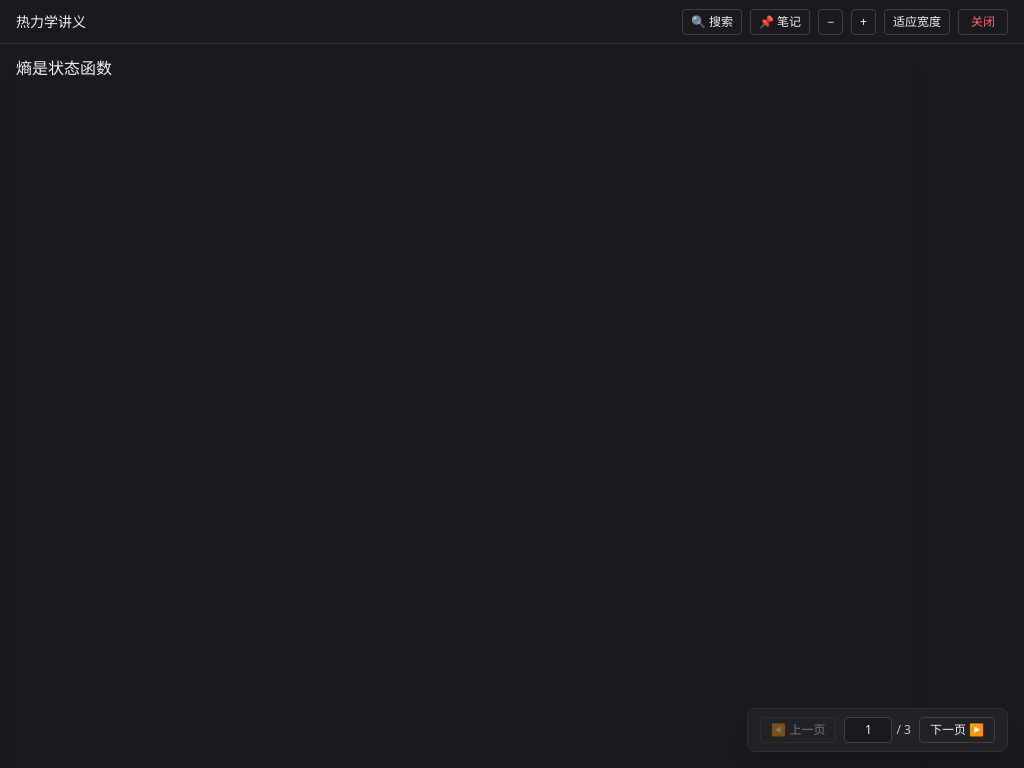
Test: PdfReaderView — search › closes the search popover with Escape
Step 1. Click the button titled "在 PDF 中搜索 (Ctrl+F)" → point(712, 22), box [682,9,742,35]
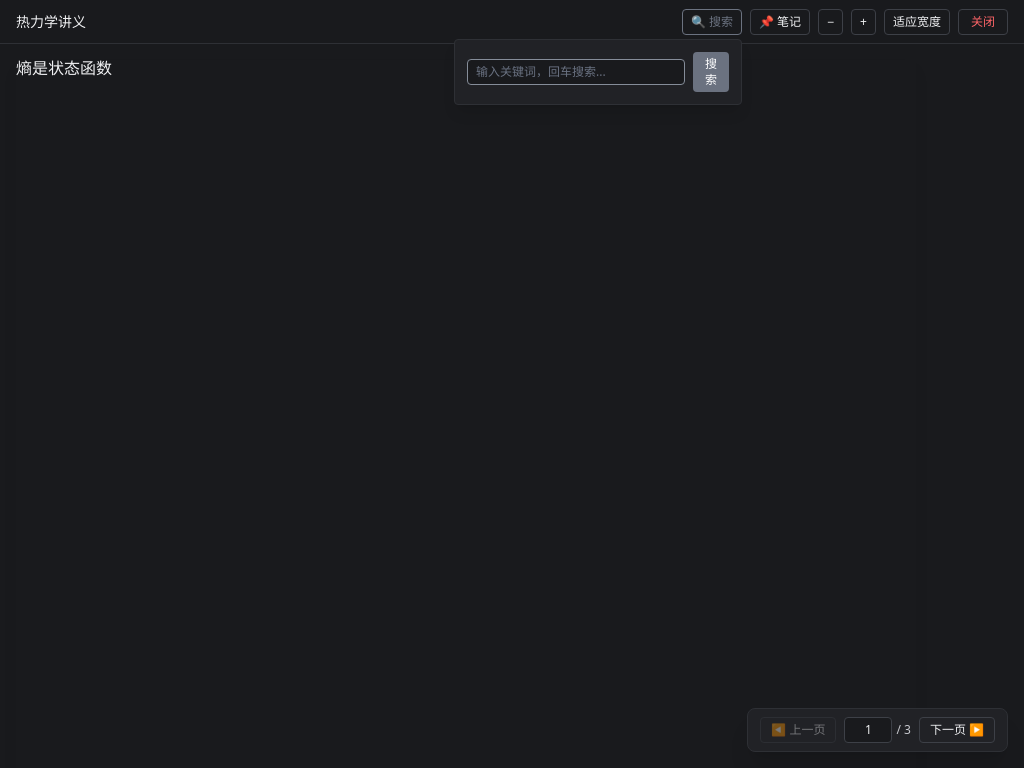
Expected: the field with placeholder "输入关键词，回车搜索..." is shown, [467,59,685,85]
Step 2. Press Escape
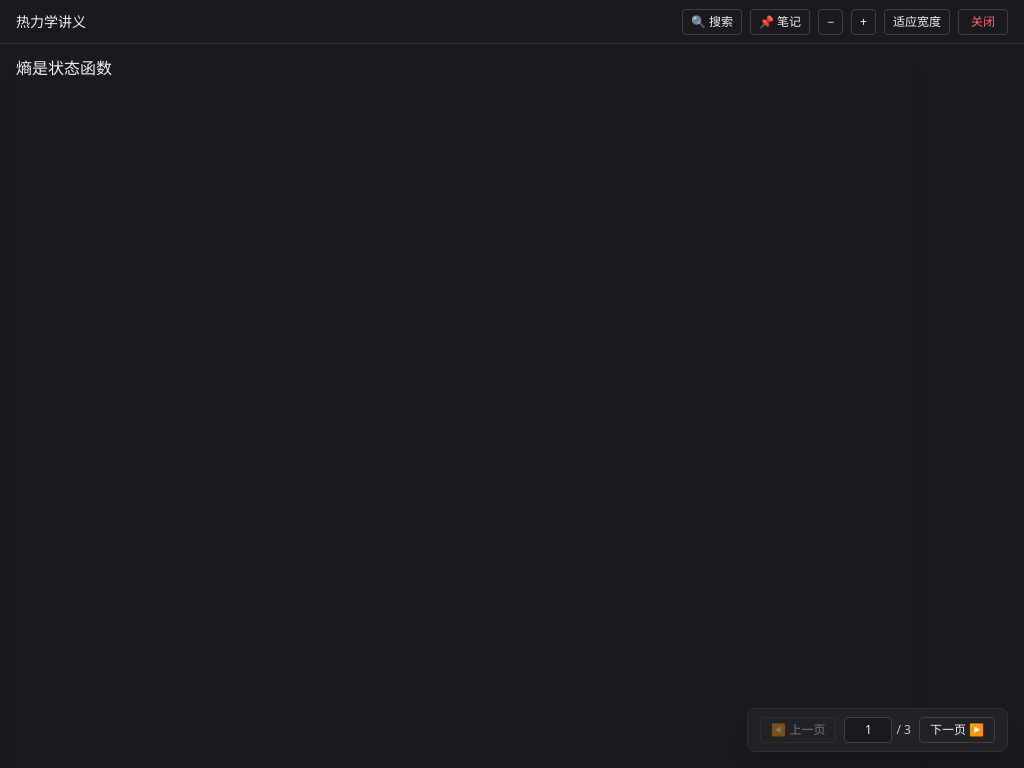
Expected: the field with placeholder "输入关键词，回车搜索..." is gone
